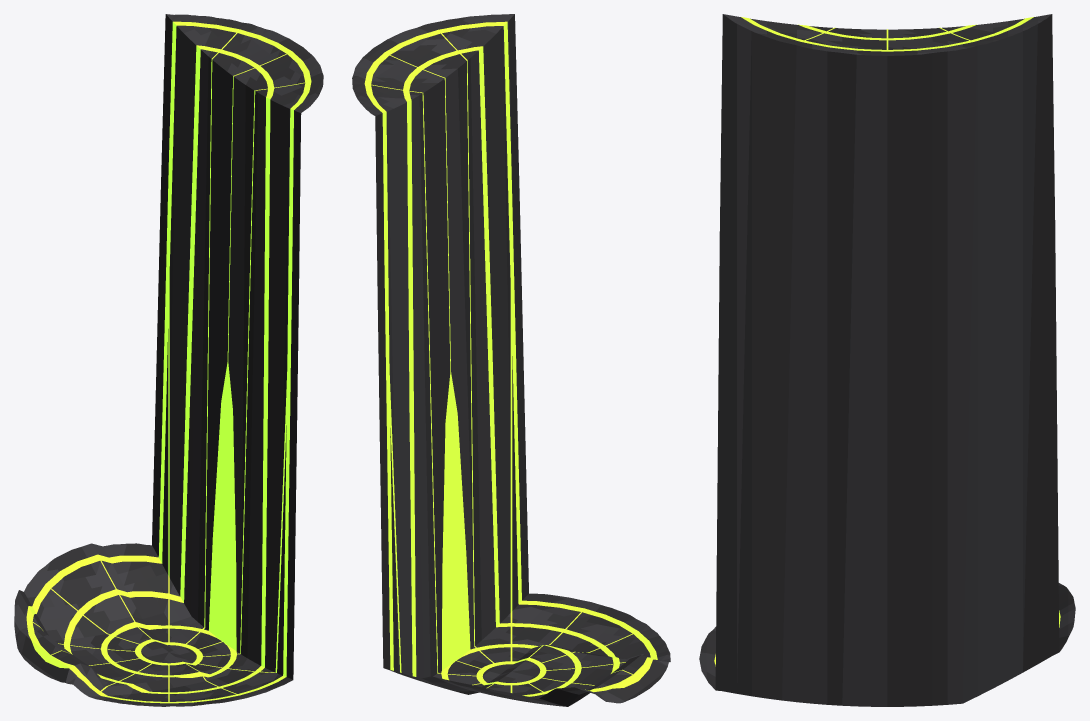
The model's file is dam_toe_vent_pits.glb.
The picture shows the model from 3 angles, left to right: view 1: azimuth 30°, elevation 25°; view 2: azimuth 150°, elevation 25°; view 3: azimuth 270°, elevation 25°; orthographic projection. The views are drawn at different scales.
Parts seen in each view (by area): view 1: dam_toe_vent_pits; view 2: dam_toe_vent_pits; view 3: dam_toe_vent_pits.
Boxes of the visible parts, box(x1,y1,x2,y2) form: dam_toe_vent_pits: box(14, 14, 323, 706); dam_toe_vent_pits: box(352, 14, 670, 706); dam_toe_vent_pits: box(699, 14, 1075, 706).
Size of the model in its own units: 50 by 103 by 50.
